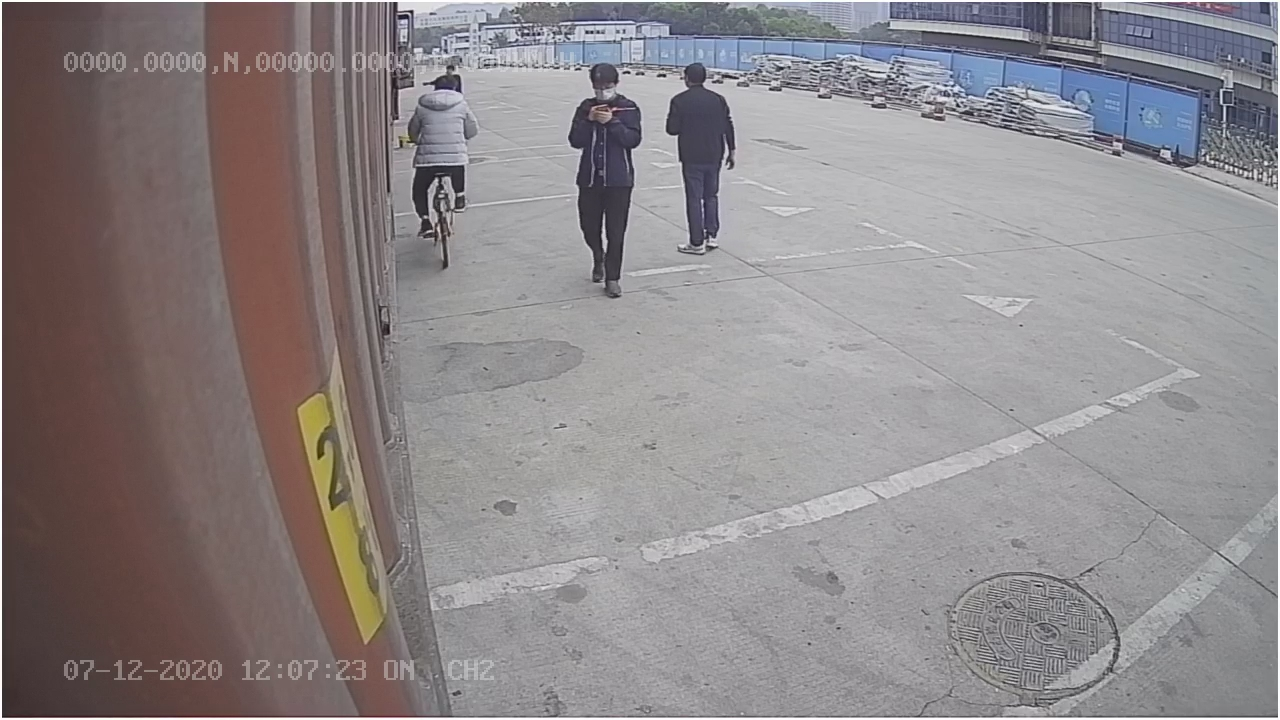person: (566, 62, 646, 304)
